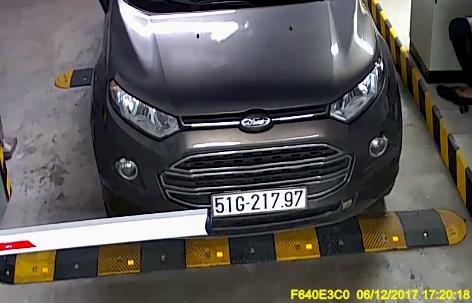plate: (209, 186, 312, 213)
